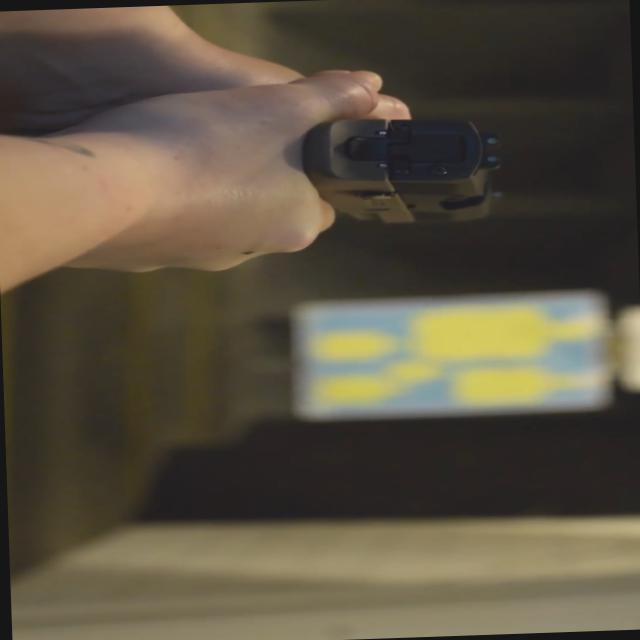handgun: (192, 84, 518, 264)
